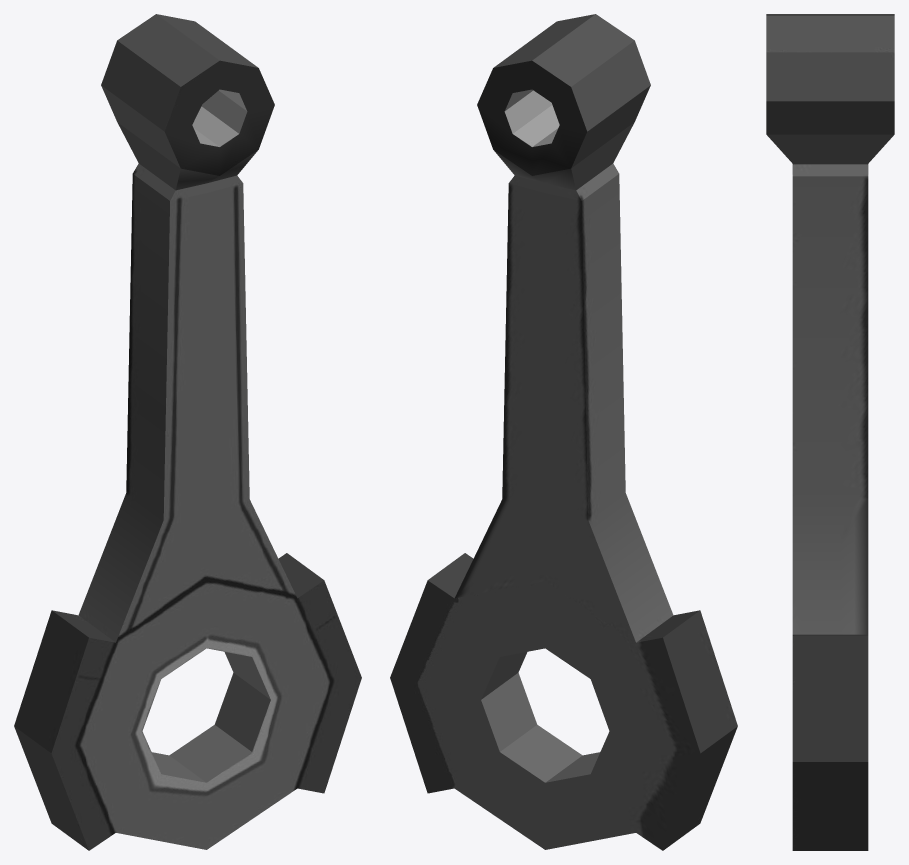
File: Pleuel.fbx
3 renders of one model, left to right at view 1: azimuth 30°, elevation 25°; view 2: azimuth 150°, elevation 25°; view 3: azimuth 270°, elevation 25°, orthographic.
Parts seen in each view (by area): view 1: Pleuel2; view 2: Pleuel2; view 3: Pleuel2.
Part boxes in pixels (box(x1,y1,x2,y2)): Pleuel2: box(14, 14, 361, 850); Pleuel2: box(390, 14, 737, 850); Pleuel2: box(766, 14, 894, 850).
Size of the model in its own units: 9.52 by 23.4 by 3.38.
1 material, 1 textured.
